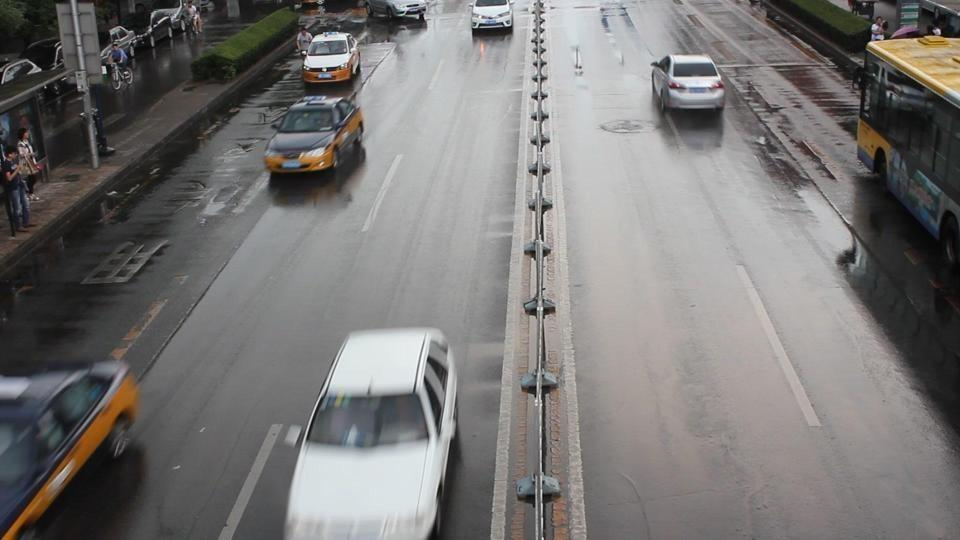car: (283, 325, 460, 538), (1, 357, 144, 536), (263, 95, 367, 176), (650, 53, 726, 113), (300, 32, 362, 84), (471, 0, 514, 33), (366, 0, 428, 22)
